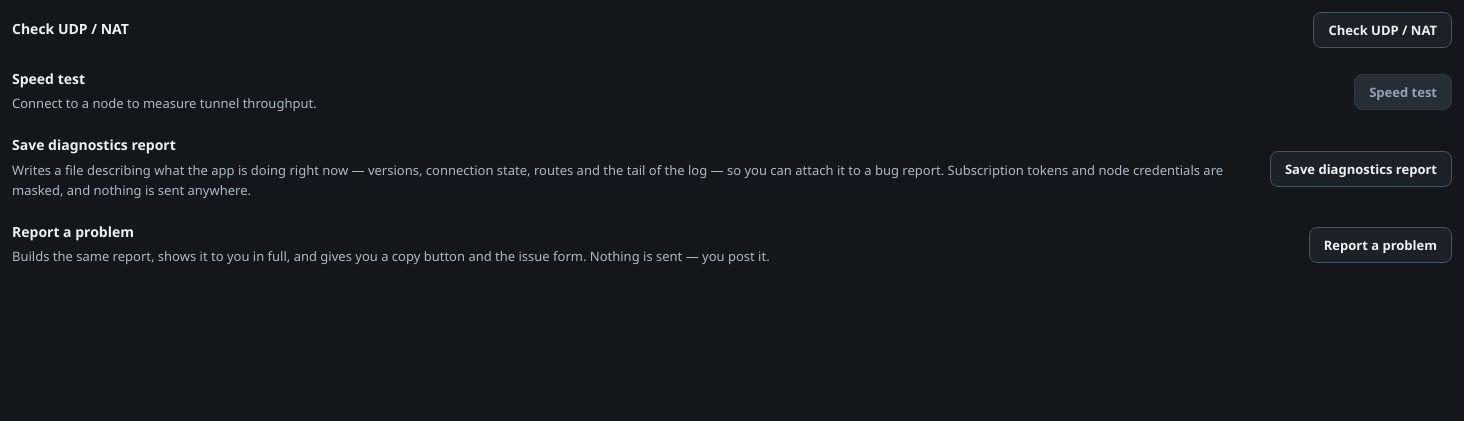
Scenario: DiagnosticsPanel › STUN / NAT probe › shows the blocked verdict and a dash when no server answered
The image size is (1464, 421).
Click the button "Check UDP / NAT". click: point(1383, 30)
box: [1314, 12, 1452, 48]
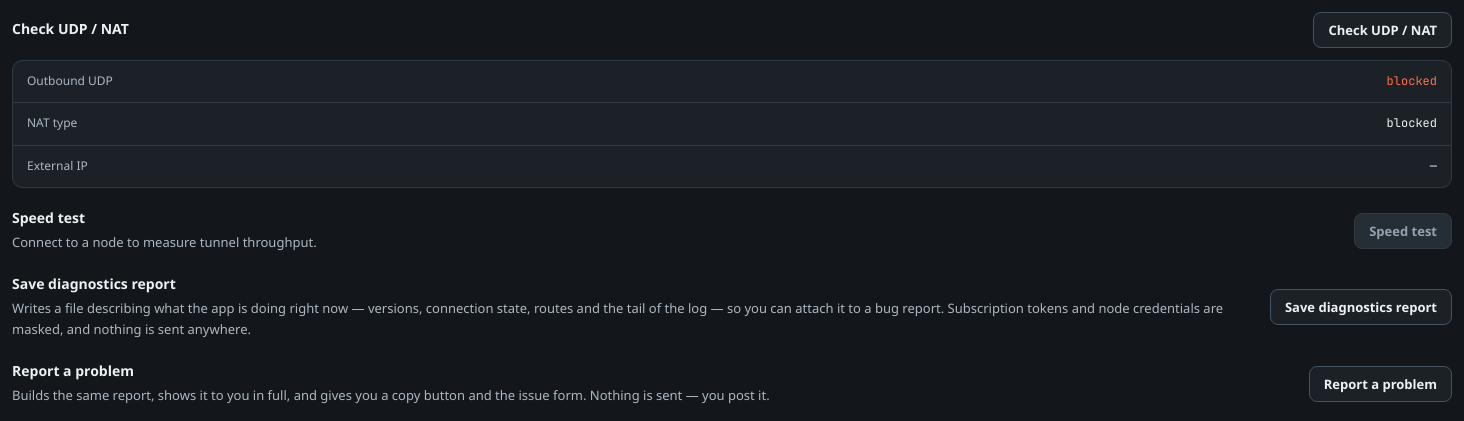
Check: the text "Outbound UDP" shows "blocked", box [1387, 73, 1437, 89]
Check: the text "External IP" shows "—", box [1430, 158, 1437, 174]
